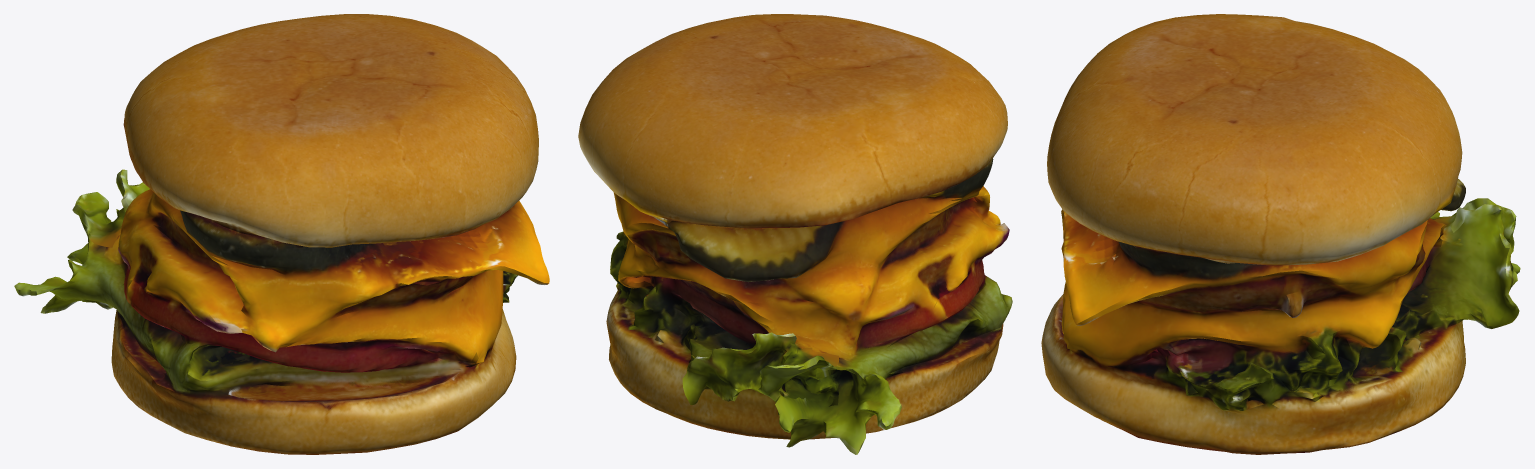
The model's file is hamburguesa.glb.
3 renders of one model, left to right at view 1: azimuth 30°, elevation 25°; view 2: azimuth 150°, elevation 25°; view 3: azimuth 270°, elevation 25°, orthographic. The views are drawn at different scales.
Parts seen in each view (by area): view 1: Object_2; view 2: Object_2; view 3: Object_2.
Boxes of the visible parts, x1,y1,x2,y2 form: Object_2: (14, 14, 549, 454); Object_2: (578, 14, 1012, 454); Object_2: (1041, 14, 1520, 454).
Size of the model in its own units: 20.34 by 14.84 by 21.2.
1 material, 1 textured.
